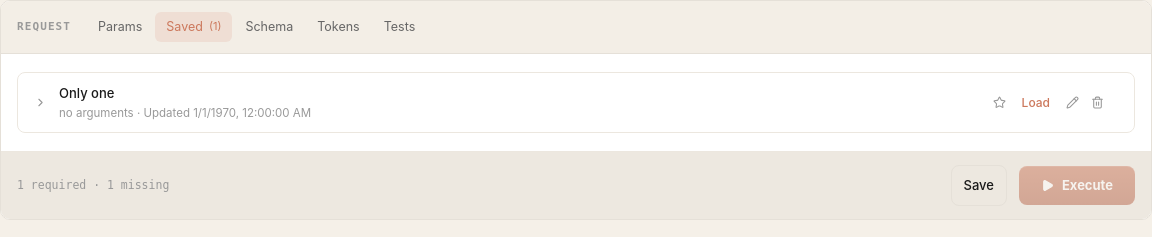
ToolRequestPanel — Saved tab › with a stubbed testing API › deleting the only saved request persists and shows the empty state again
expect the text "Only one" is shown: met, box x1=59 y1=85 x2=114 y2=101
Click the button named "Delete Only one" at (1098, 103), box x1=1087 y1=92 x2=1108 y2=113
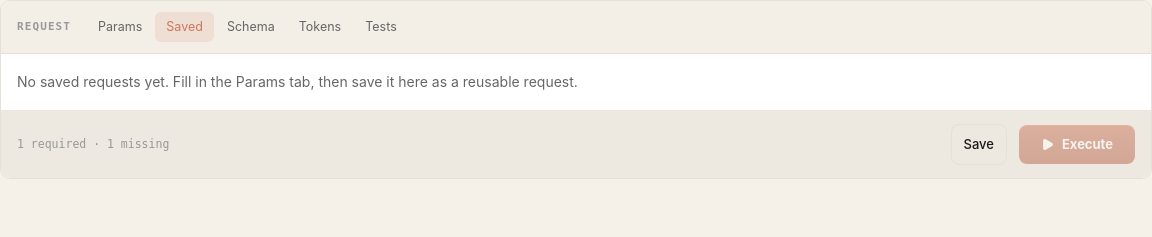
expect the text "No saved requests yet" is shown: met, box x1=17 y1=73 x2=578 y2=90
